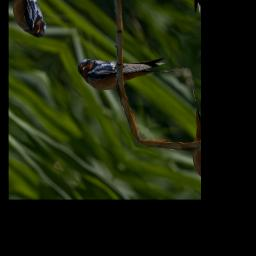Swallow: (73, 14, 181, 127)
